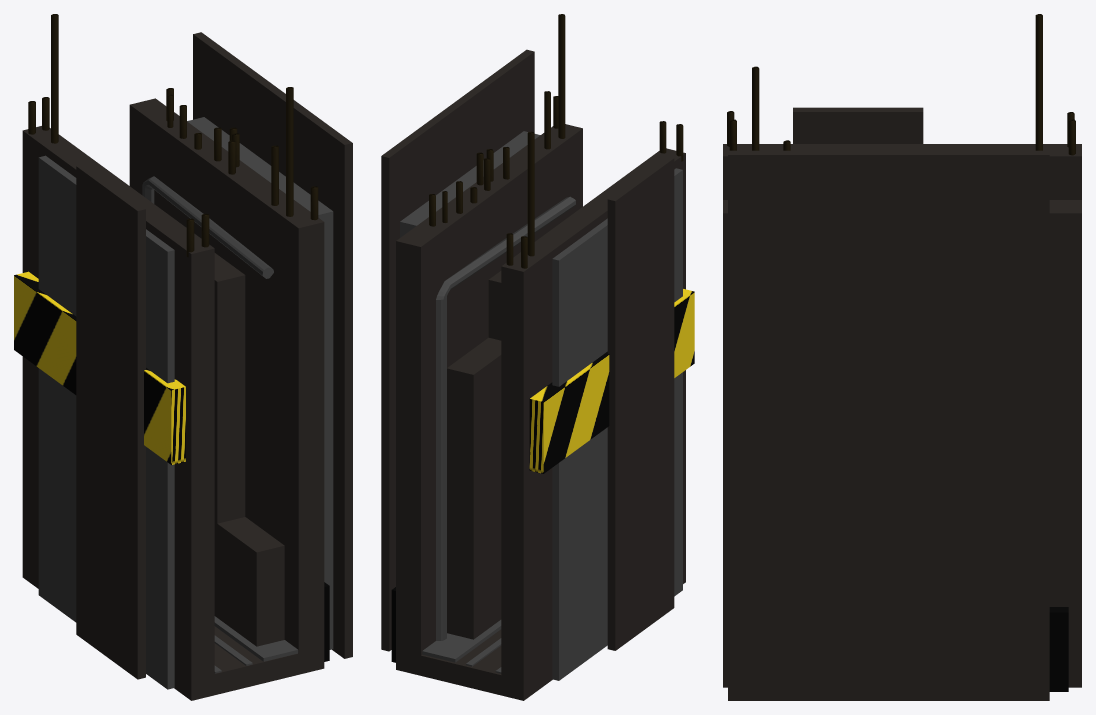
The picture shows the model from 3 angles, left to right: view 1: azimuth 30°, elevation 25°; view 2: azimuth 150°, elevation 25°; view 3: azimuth 270°, elevation 25°; orthographic projection. The views are drawn at different scales.
Visible parts, largest first — view 1: 立方体.004, 立方体.047, 立方体.044, 立方体.046, 立方体.005, 立方体.048, 立方体.045, 立方体.043, 立方体.008, 立方体.013, 立方体.042; view 2: 立方体.004, 立方体.047, 立方体.044, 立方体.046, 立方体.005, 立方体.048, 立方体.043, 立方体.045, 立方体.008, 立方体.013, 立方体.042; view 3: 立方体.046, 立方体.004, 立方体.047, 立方体.049, 立方体.042, 立方体.013.
Boxes of the visible parts, x1=… form: 立方体.004: x1=22, y1=98, x2=324, y2=700; 立方体.047: x1=76, y1=164, x2=145, y2=679; 立方体.044: x1=38, y1=155, x2=174, y2=689; 立方体.046: x1=193, y1=32, x2=352, y2=658; 立方体.005: x1=214, y1=253, x2=284, y2=646; 立方体.048: x1=14, y1=271, x2=185, y2=464; 立方体.045: x1=187, y1=117, x2=333, y2=649; 立方体.043: x1=142, y1=176, x2=273, y2=278; 立方体.008: x1=214, y1=616, x2=298, y2=661; 立方体.013: x1=286, y1=87, x2=293, y2=216; 立方体.042: x1=51, y1=14, x2=58, y2=143; 立方体.004: x1=396, y1=124, x2=685, y2=700; 立方体.047: x1=607, y1=156, x2=674, y2=650; 立方体.044: x1=552, y1=168, x2=682, y2=680; 立方体.046: x1=381, y1=49, x2=534, y2=651; 立方体.005: x1=447, y1=271, x2=501, y2=639; 立方体.048: x1=529, y1=289, x2=694, y2=473; 立方体.043: x1=436, y1=196, x2=575, y2=640; 立方体.045: x1=400, y1=131, x2=540, y2=237; 立方体.008: x1=422, y1=620, x2=501, y2=662; 立方体.013: x1=558, y1=14, x2=565, y2=138; 立方体.042: x1=527, y1=131, x2=534, y2=256; 立方体.046: x1=728, y1=150, x2=1049, y2=700; 立方体.004: x1=723, y1=144, x2=1081, y2=687; 立方体.047: x1=793, y1=107, x2=923, y2=143; 立方体.049: x1=1049, y1=607, x2=1068, y2=691; 立方体.042: x1=1035, y1=14, x2=1042, y2=150; 立方体.013: x1=752, y1=66, x2=759, y2=150.
Bounding box in the file's own units: 4.17 × 12.4 × 6.62.
6 materials, 1 textured.
